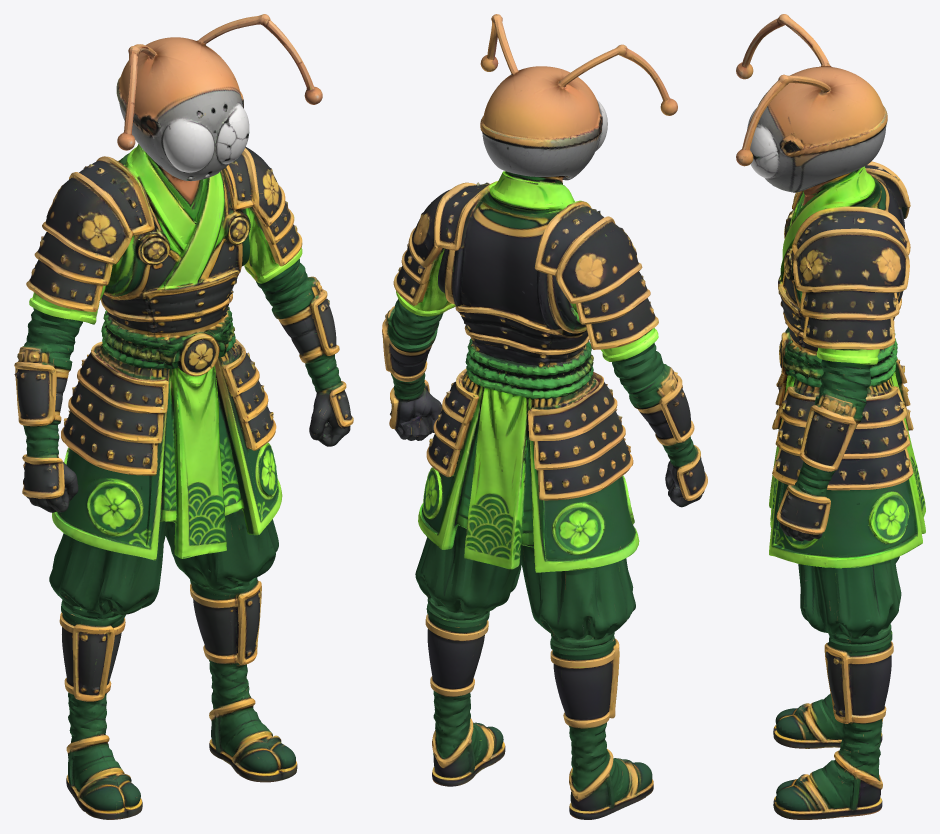
The model's file is rebel_4998_static_source_shogun_v5c_g1.glb.
The picture shows the model from 3 angles, left to right: view 1: azimuth 30°, elevation 25°; view 2: azimuth 150°, elevation 25°; view 3: azimuth 270°, elevation 25°; orthographic projection. The views are drawn at different scales.
Visible parts, largest first — view 1: Mesh_0; view 2: Mesh_0; view 3: Mesh_0.
Boxes of the visible parts, left/top/right/bottom form: Mesh_0: left=14, top=14, right=353, bottom=819; Mesh_0: left=382, top=14, right=707, bottom=819; Mesh_0: left=736, top=14, right=925, bottom=819.
Bounding box in the file's own units: 0.8369 × 1.9 × 0.448.
Materials: 1 (1 with a texture image).
